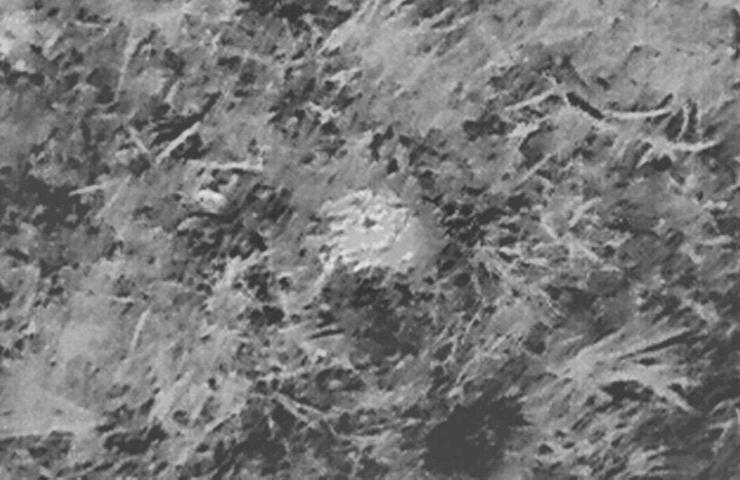landmines: (315, 181, 426, 285)
